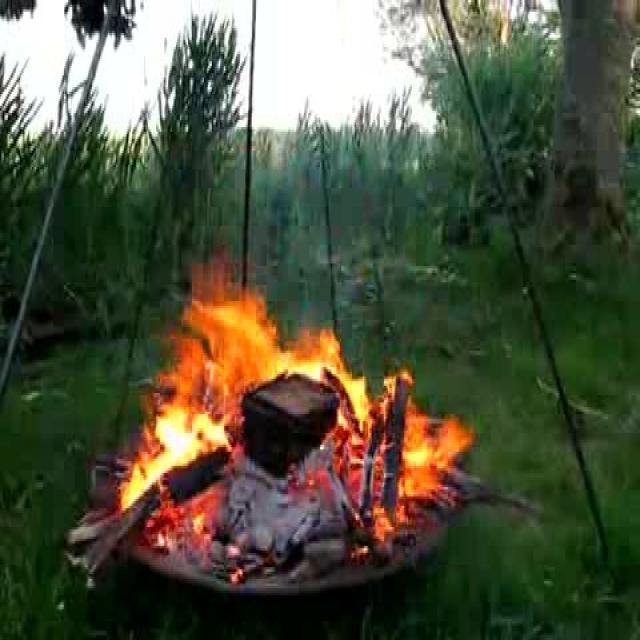Fire: (134, 305, 443, 501)
